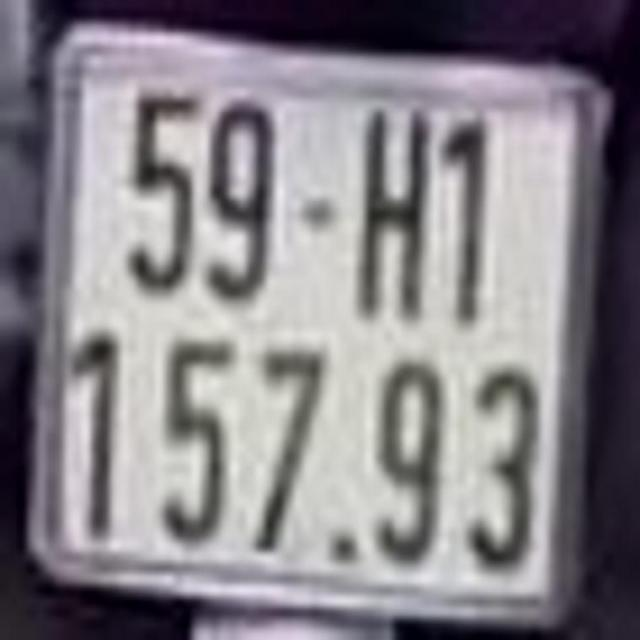1: (442, 105, 489, 322), (72, 335, 119, 528)
3: (472, 372, 534, 562)
5: (163, 337, 233, 537), (129, 92, 195, 295)
7: (255, 343, 325, 552)
9: (206, 101, 272, 298), (374, 362, 437, 565)
H: (361, 110, 426, 320)
